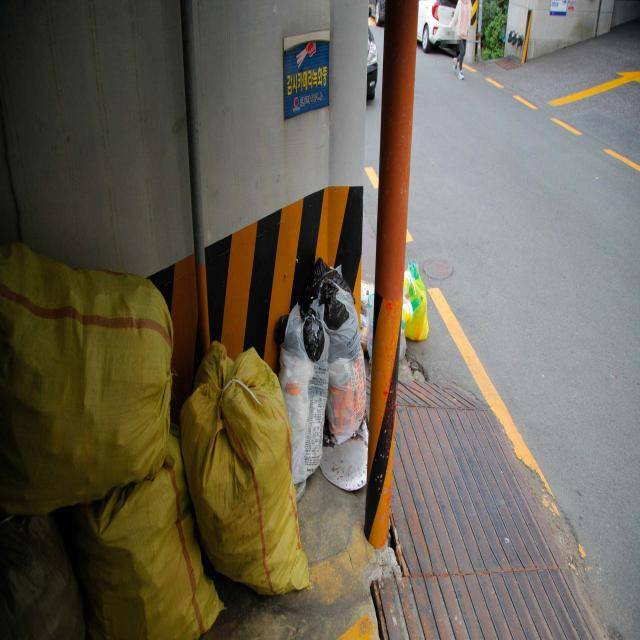garbage bag: (270, 258, 366, 482), (404, 258, 430, 345)
